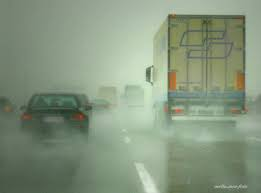car: (19, 88, 87, 155), (77, 89, 92, 122), (88, 95, 109, 116), (1, 95, 16, 121)
truck: (146, 15, 247, 143), (123, 84, 146, 115), (97, 85, 117, 113)
